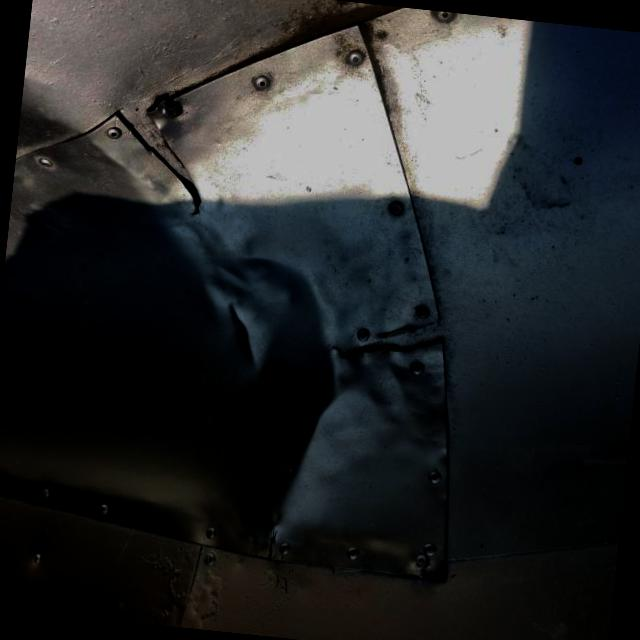crack: (93, 88, 227, 230), (319, 286, 457, 381), (253, 509, 295, 570)
dent: (104, 215, 365, 564)
